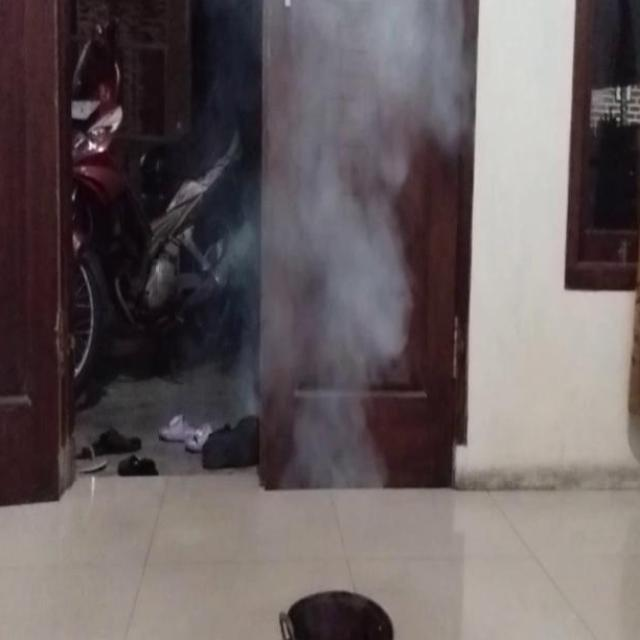fire: (250, 193, 408, 528), (270, 0, 468, 195)
